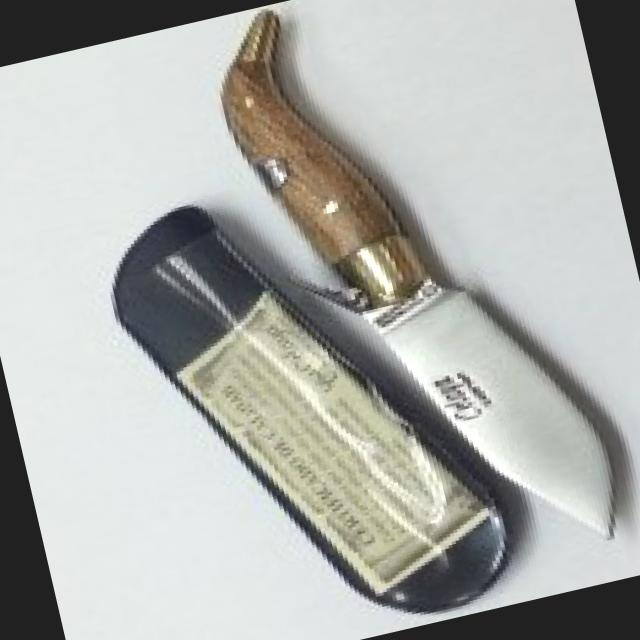knife: (319, 210, 637, 604)
